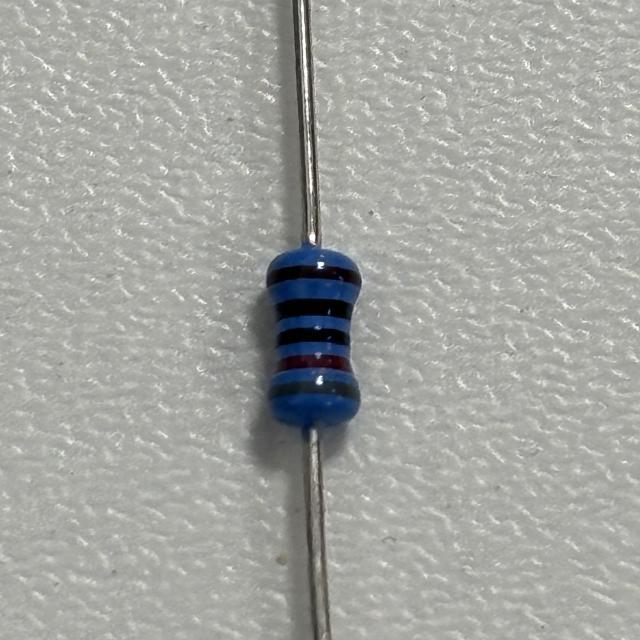resistor: (264, 252, 363, 422)
